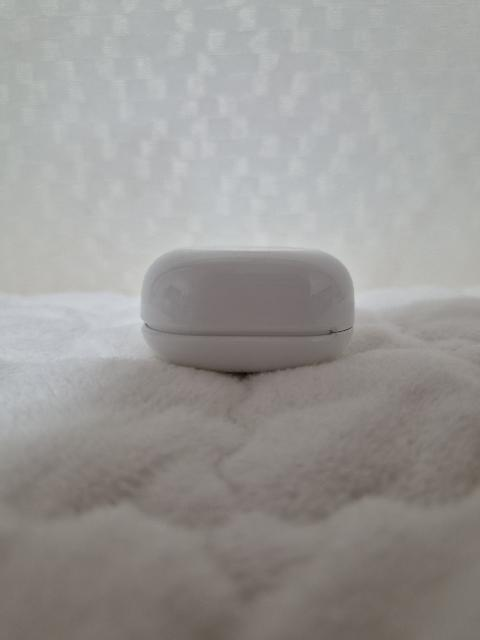earphone_case: (140, 246, 355, 372)
